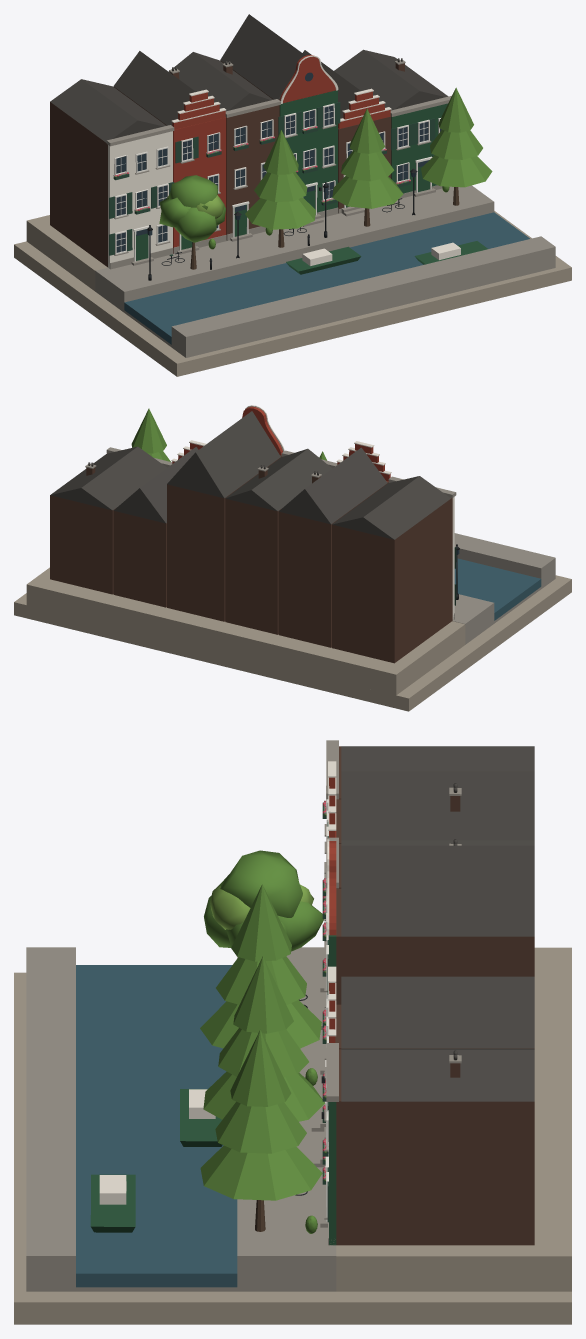
File: kit_canal.glb
3 renders of one model, top to bottom at view 1: azimuth 30°, elevation 25°; view 2: azimuth 150°, elevation 25°; view 3: azimuth 270°, elevation 25°, orthographic. The views are drawn at different scales.
Visible parts, largest first — view 1: env~far_quay, env~quay, env~water, env~plinth, house_00~body, house_00~facade, tree_1, tree_3, tree_2, house_00_roof, house_03_roof, house_02~facade (+25 smaller); view 2: house_00~body, env~backyard, env~plinth, house_03~body, house_01~body, house_02~body, house_05~body, house_03_roof, house_04~body, house_00_roof, house_01_roof, house_05_roof (+8 smaller); view 3: env~water, house_05~body, env~plinth, env~backyard, house_03_roof, env~far_quay, house_04_roof, house_01_roof, env~quay, tree_3, house_05_roof, house_03~body (+11 smaller).
Part boxes in pixels (bbox=[...]): env~far_quay: bbox=[171, 236, 555, 357]; env~quay: bbox=[95, 185, 494, 312]; env~water: bbox=[124, 212, 529, 344]; env~plinth: bbox=[14, 211, 571, 376]; house_00~body: bbox=[50, 102, 107, 267]; house_00~facade: bbox=[108, 131, 173, 269]; tree_1: bbox=[245, 130, 315, 247]; tree_3: bbox=[421, 87, 492, 205]; tree_2: bbox=[332, 108, 403, 226]; house_00_roof: bbox=[50, 79, 166, 142]; house_03_roof: bbox=[220, 14, 305, 99]; house_02~facade: bbox=[226, 105, 279, 240]; house_00~body: bbox=[332, 482, 452, 663]; env~backyard: bbox=[26, 567, 465, 695]; env~plinth: bbox=[14, 575, 571, 711]; house_03~body: bbox=[167, 455, 281, 621]; house_01~body: bbox=[278, 481, 388, 647]; house_02~body: bbox=[225, 498, 280, 634]; house_05~body: bbox=[50, 453, 115, 594]; house_03_roof: bbox=[167, 411, 280, 498]; house_04~body: bbox=[113, 511, 166, 607]; house_00_roof: bbox=[332, 476, 450, 539]; house_01_roof: bbox=[279, 447, 387, 524]; house_05_roof: bbox=[50, 446, 166, 510]; env~water: bbox=[76, 965, 237, 1287]; house_05~body: bbox=[336, 1049, 534, 1245]; env~plinth: bbox=[14, 972, 571, 1324]; env~backyard: bbox=[336, 947, 571, 1291]; house_03_roof: bbox=[341, 845, 534, 936]; env~far_quay: bbox=[26, 947, 75, 1291]; house_04_roof: bbox=[341, 976, 534, 1048]; house_01_roof: bbox=[341, 771, 534, 840]; env~quay: bbox=[237, 947, 336, 1291]; tree_3: bbox=[200, 1029, 322, 1231]; house_05_roof: bbox=[341, 1049, 534, 1101]; house_03~body: bbox=[336, 888, 534, 1004].
Bounding box in the file's own units: 31.45 × 15.13 × 22.5.
Materials: 1 (1 with a texture image).
